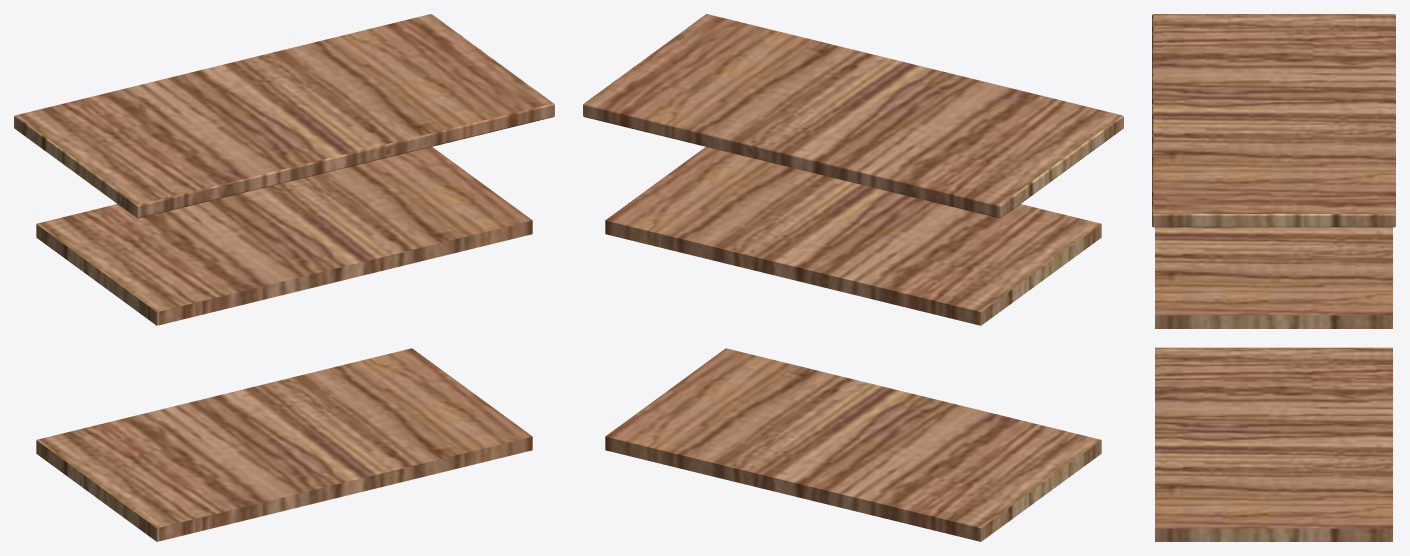
Rendered from drewno.fbx.
3 renders of one model, left to right at view 1: azimuth 30°, elevation 25°; view 2: azimuth 150°, elevation 25°; view 3: azimuth 270°, elevation 25°, orthographic.
Visible parts, largest first — view 1: drewno_mesh; view 2: drewno_mesh; view 3: drewno_mesh.
Part boxes in pixels (<box>): drewno_mesh: <box>14,14,554,541</box>; drewno_mesh: <box>583,14,1123,541</box>; drewno_mesh: <box>1152,14,1395,541</box>.
Bounding box in the file's own units: 80 × 62.6 × 41.
